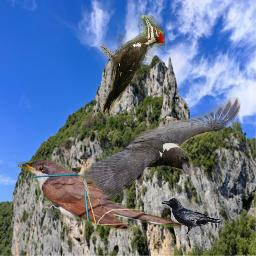Crow: (47, 97, 241, 218), (161, 198, 222, 236)
Cuckoo: (16, 155, 187, 238)
Woodpecker: (97, 15, 165, 116)
